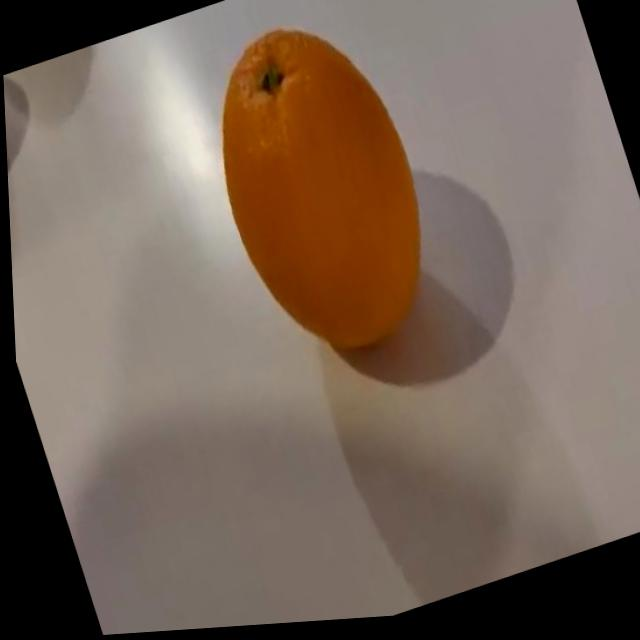Orange: (177, 0, 460, 387)
